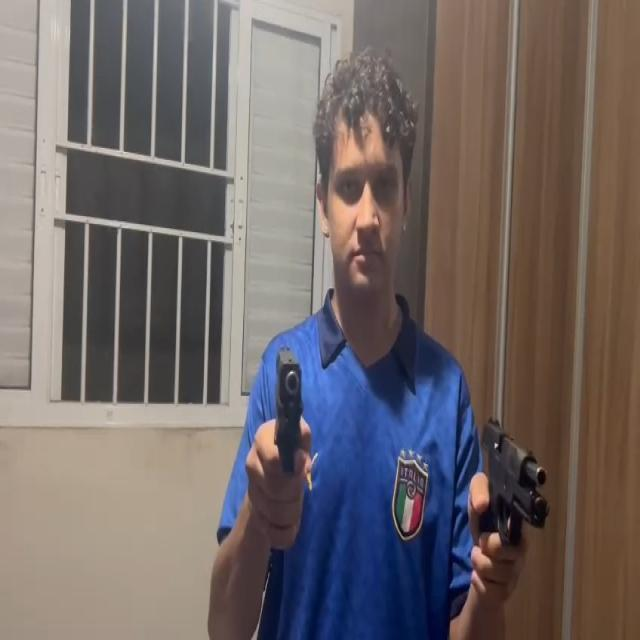gun: (478, 416, 552, 545), (274, 348, 306, 466)
